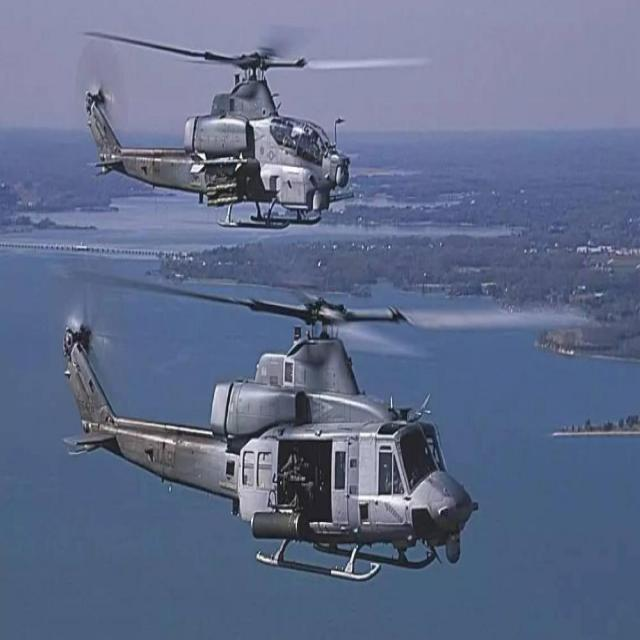MIL_HELO: (43, 246, 530, 606), (58, 7, 451, 225)
